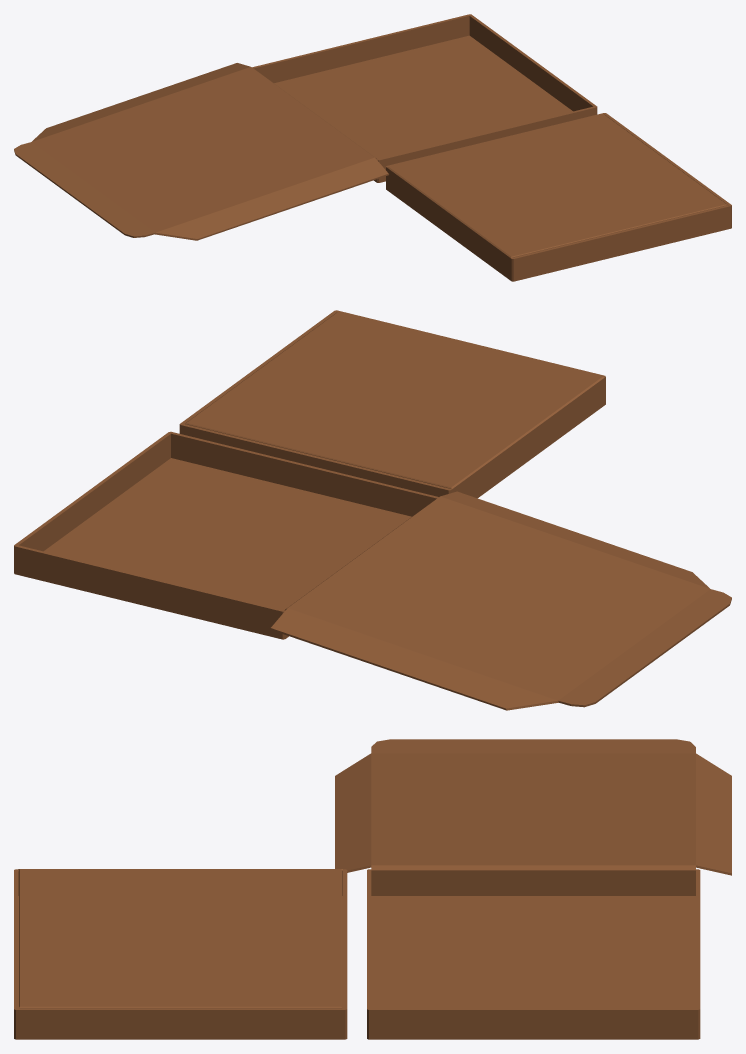
The model's file is PizzaBoxes.fbx.
3 views of the same model, one above another, from view 1: azimuth 30°, elevation 25°; view 2: azimuth 150°, elevation 25°; view 3: azimuth 270°, elevation 25° (orthographic). The views are drawn at different scales.
Parts seen in each view (by area): view 1: Cube, Cube.001; view 2: Cube, Cube.001; view 3: Cube, Cube.001.
Part boxes in pixels (bbox=[...]): Cube: bbox=[14, 14, 597, 240]; Cube.001: bbox=[386, 113, 731, 281]; Cube: bbox=[14, 431, 731, 710]; Cube.001: bbox=[179, 310, 605, 498]; Cube: bbox=[335, 739, 731, 1039]; Cube.001: bbox=[14, 869, 347, 1039].
Size of the model in its own units: 1783 by 96.91 by 1823.
